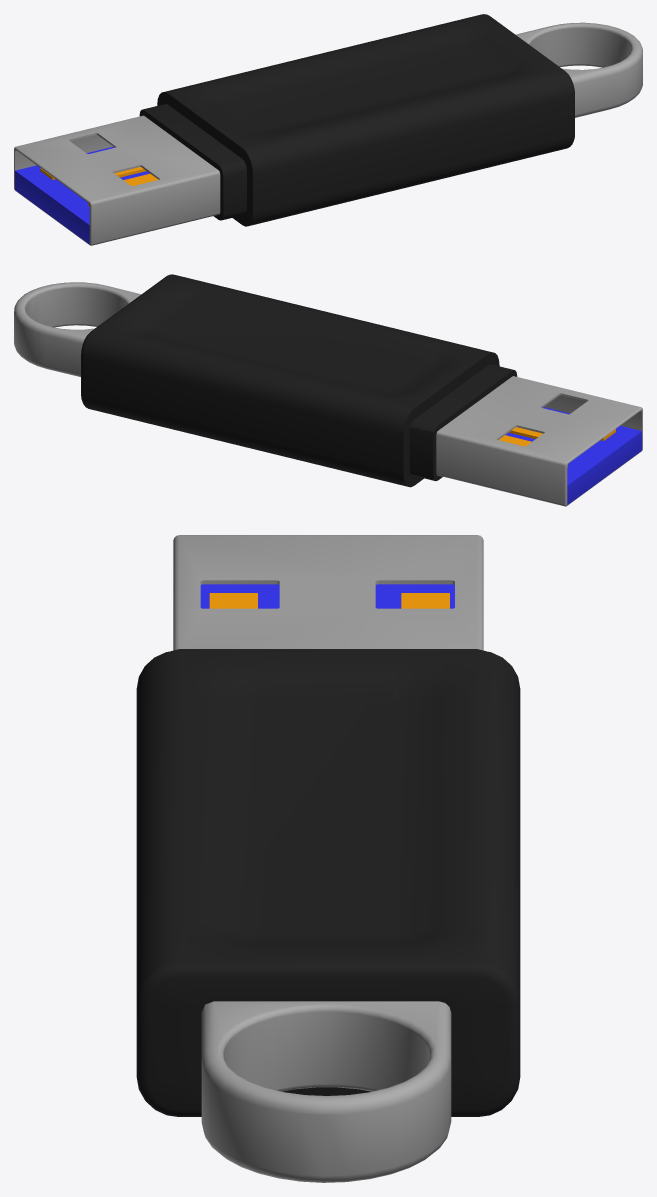
File: usb_drive.glb
The picture shows the model from 3 angles, top to bottom: view 1: azimuth 30°, elevation 25°; view 2: azimuth 150°, elevation 25°; view 3: azimuth 270°, elevation 25°; orthographic projection. The views are drawn at different scales.
Visible parts, largest first — view 1: _Material #1315_0, _Material #799_0, _Material #1573_0, _Material #283_0, _Material #25_0; view 2: _Material #1315_0, _Material #799_0, _Material #1573_0, _Material #283_0, _Material #25_0; view 3: _Material #1315_0, _Material #1573_0, _Material #799_0, _Material #283_0, _Material #25_0.
Part boxes in pixels (bbox=[...]): _Material #1315_0: bbox=[139, 14, 574, 226]; _Material #799_0: bbox=[14, 115, 220, 245]; _Material #1573_0: bbox=[516, 22, 642, 117]; _Material #283_0: bbox=[15, 146, 149, 244]; _Material #25_0: bbox=[40, 167, 158, 206]; _Material #1315_0: bbox=[81, 274, 517, 487]; _Material #799_0: bbox=[436, 376, 642, 506]; _Material #1573_0: bbox=[14, 282, 140, 376]; _Material #283_0: bbox=[505, 407, 641, 504]; _Material #25_0: bbox=[499, 427, 615, 467]; _Material #1315_0: bbox=[136, 649, 520, 1116]; _Material #1573_0: bbox=[201, 1001, 451, 1182]; _Material #799_0: bbox=[173, 535, 483, 650]; _Material #283_0: bbox=[200, 584, 454, 608]; _Material #25_0: bbox=[209, 593, 449, 608].
Bounding box in the file's own units: 0.086 × 0.0109 × 0.0245.
6 materials, 6 textured.
